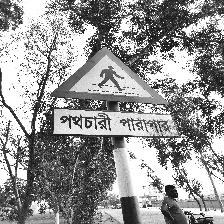Pedestrian-crossing: (49, 47, 178, 139)
